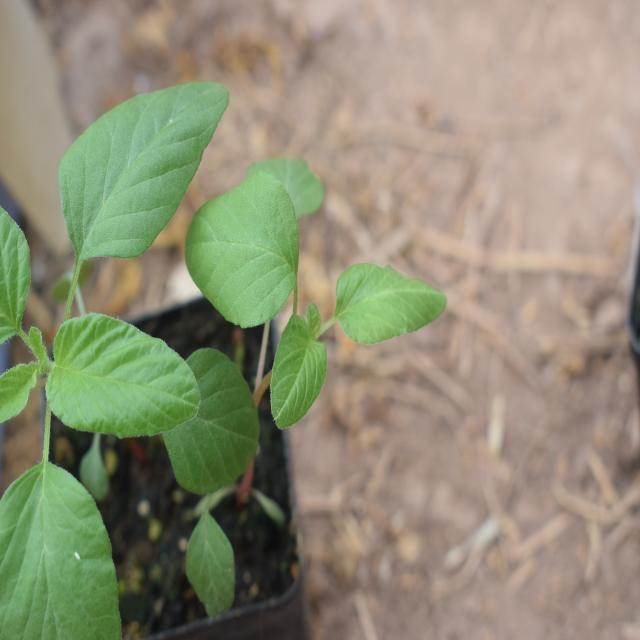pigweed: (5, 32, 215, 608), (203, 144, 413, 439)
